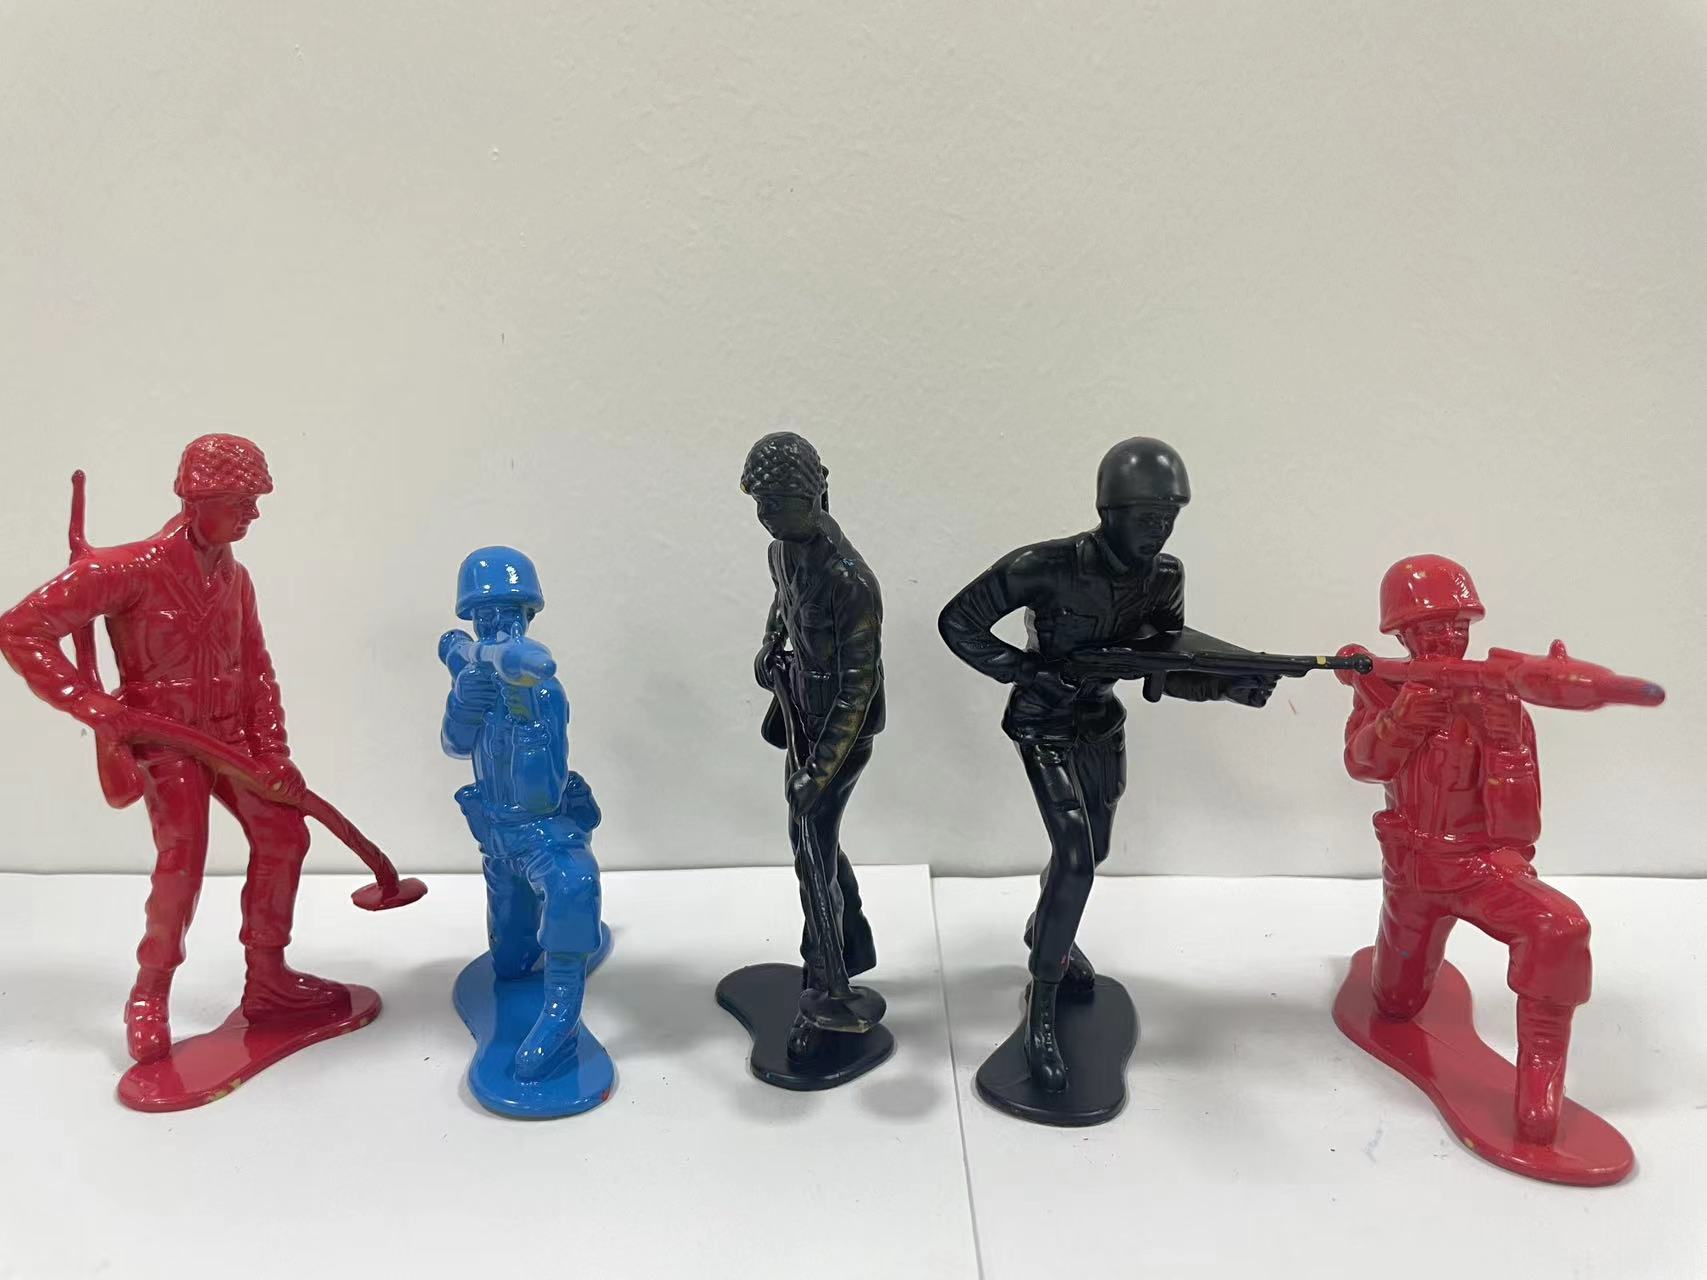black: (940, 428, 1317, 1164), (679, 389, 913, 1125)
blue: (406, 531, 659, 1150)
red: (1323, 549, 1695, 1224)
